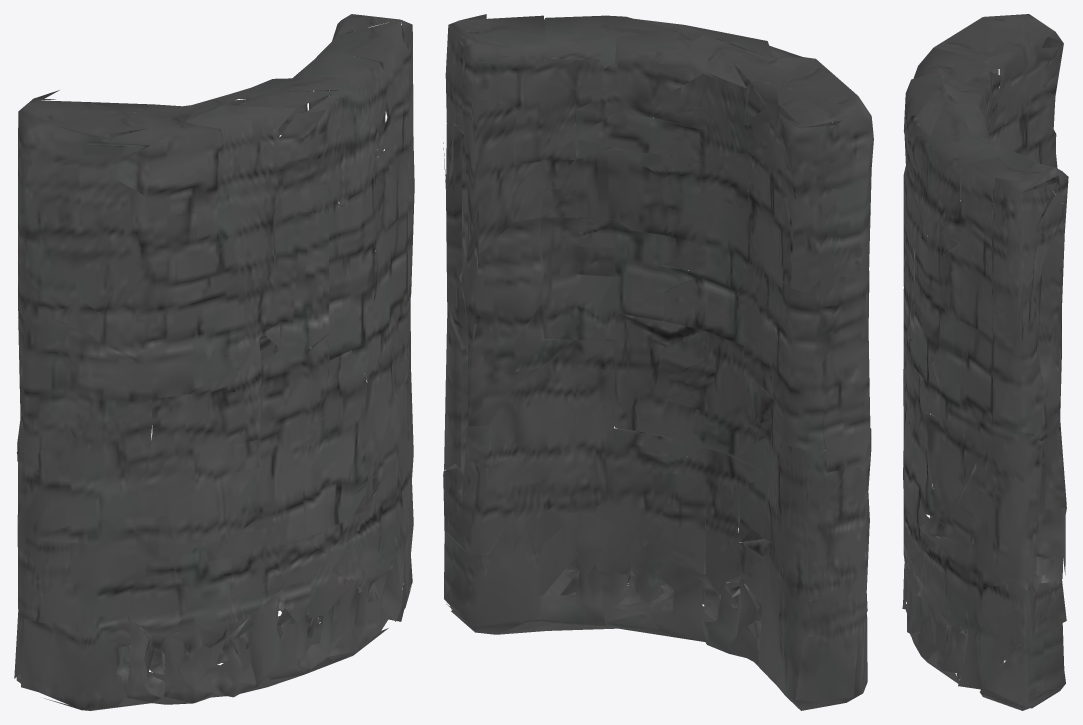
File: dungeon curbed tall wall.glb
The picture shows the model from 3 angles, left to right: view 1: azimuth 30°, elevation 25°; view 2: azimuth 150°, elevation 25°; view 3: azimuth 270°, elevation 25°; orthographic projection. The views are drawn at different scales.
Visible parts, largest first — view 1: Mesh_0; view 2: Mesh_0; view 3: Mesh_0.
Boxes of the visible parts, left/top/right/bottom form: Mesh_0: left=14, top=14, right=414, bottom=710; Mesh_0: left=443, top=14, right=873, bottom=710; Mesh_0: left=902, top=14, right=1068, bottom=710.
Size of the model in its own units: 0.5074 by 0.6996 by 0.1972.
1 material, 1 textured.
